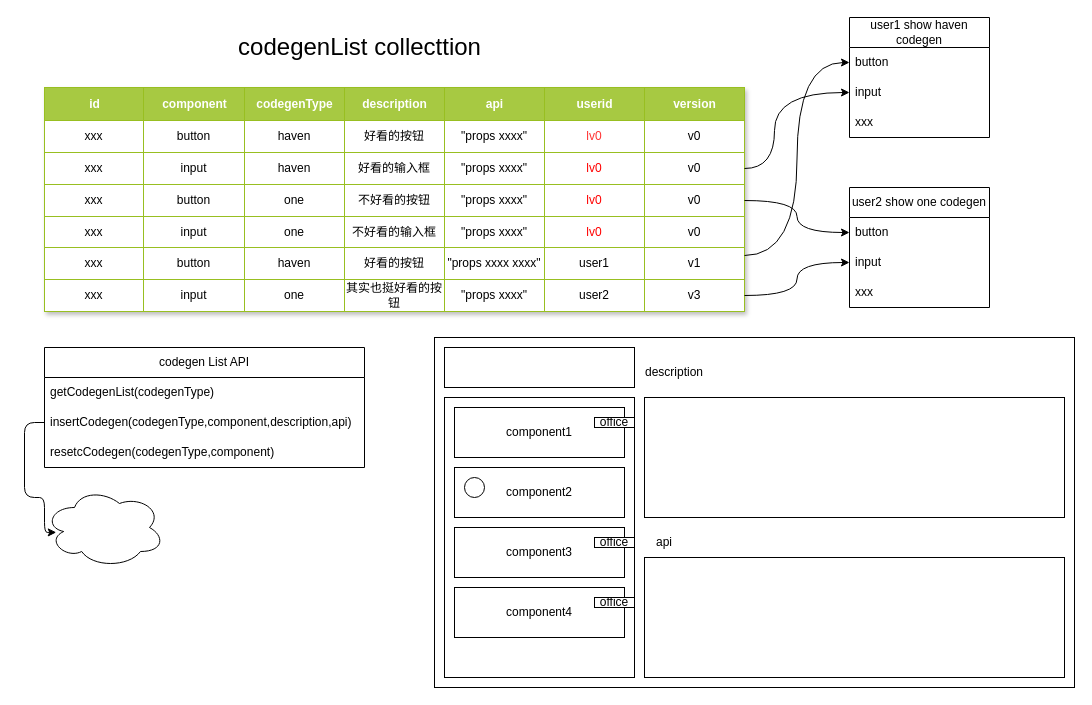
This 1092x705 diagram has some shape labels left out. The centre of each missing label's shape, as x and y in pixels:
reset: the point at 474,487
search: the point at 539,367
统计高频修改: the point at 104,527
